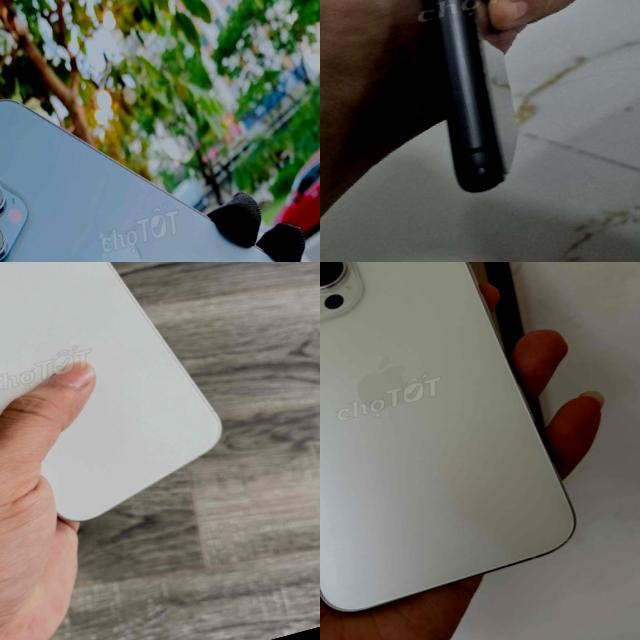gen_11: (320, 0, 593, 223)
gen_12_13: (0, 26, 320, 262)
gen_15: (320, 262, 612, 640)
gen_17: (0, 262, 221, 520)
